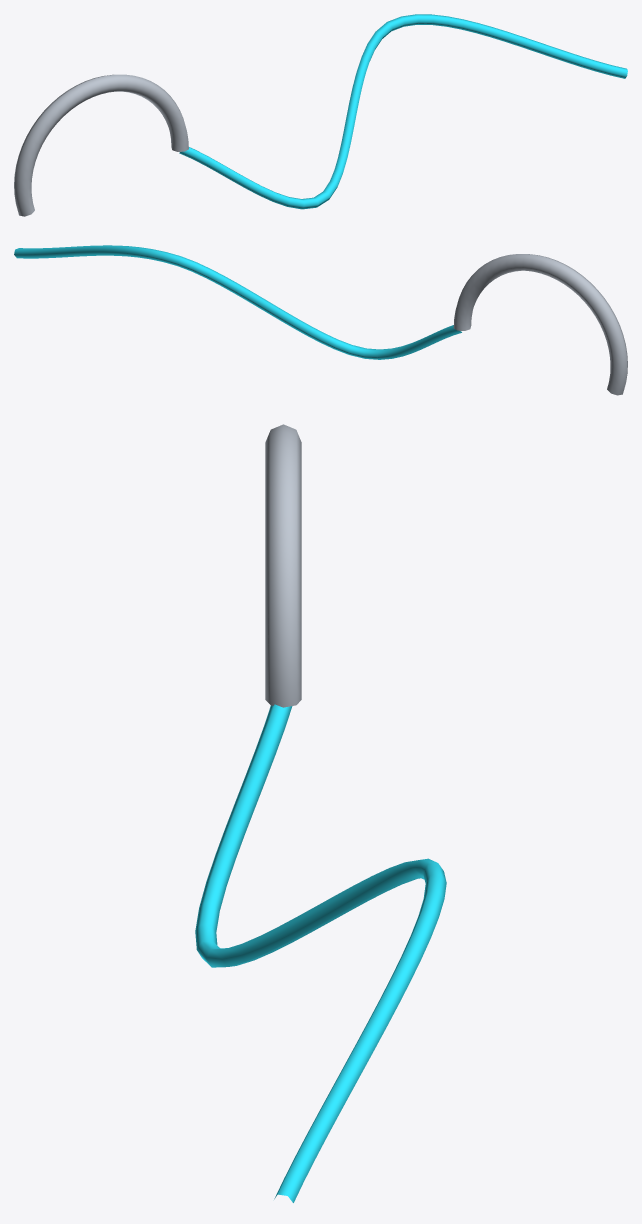
The model's file is suture-needle.glb.
3 views of the same model, one above another, from view 1: azimuth 30°, elevation 25°; view 2: azimuth 150°, elevation 25°; view 3: azimuth 270°, elevation 25° (orthographic). The views are drawn at different scales.
Parts seen in each view (by area): view 1: suture-needle; view 2: suture-needle; view 3: suture-needle.
Part boxes in pixels (x1=…): suture-needle: x1=14, y1=14, x2=627, y2=216; suture-needle: x1=14, y1=245, x2=627, y2=395; suture-needle: x1=195, y1=424, x2=446, y2=1202.
Bounding box in the file's own units: 0.0935 × 0.0238 × 0.0167.
